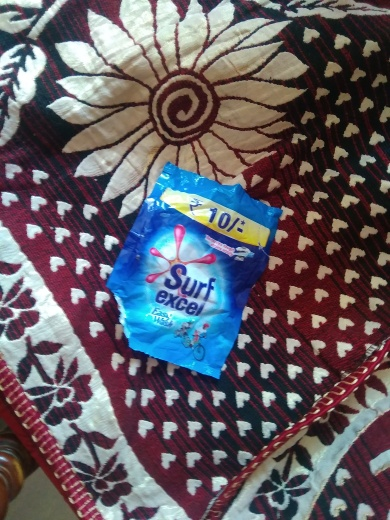surf: (109, 151, 275, 375)
